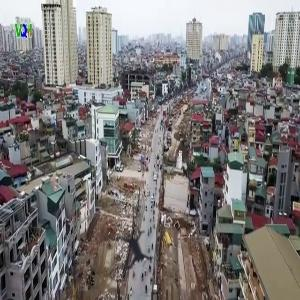drone: (87, 206, 179, 298)
